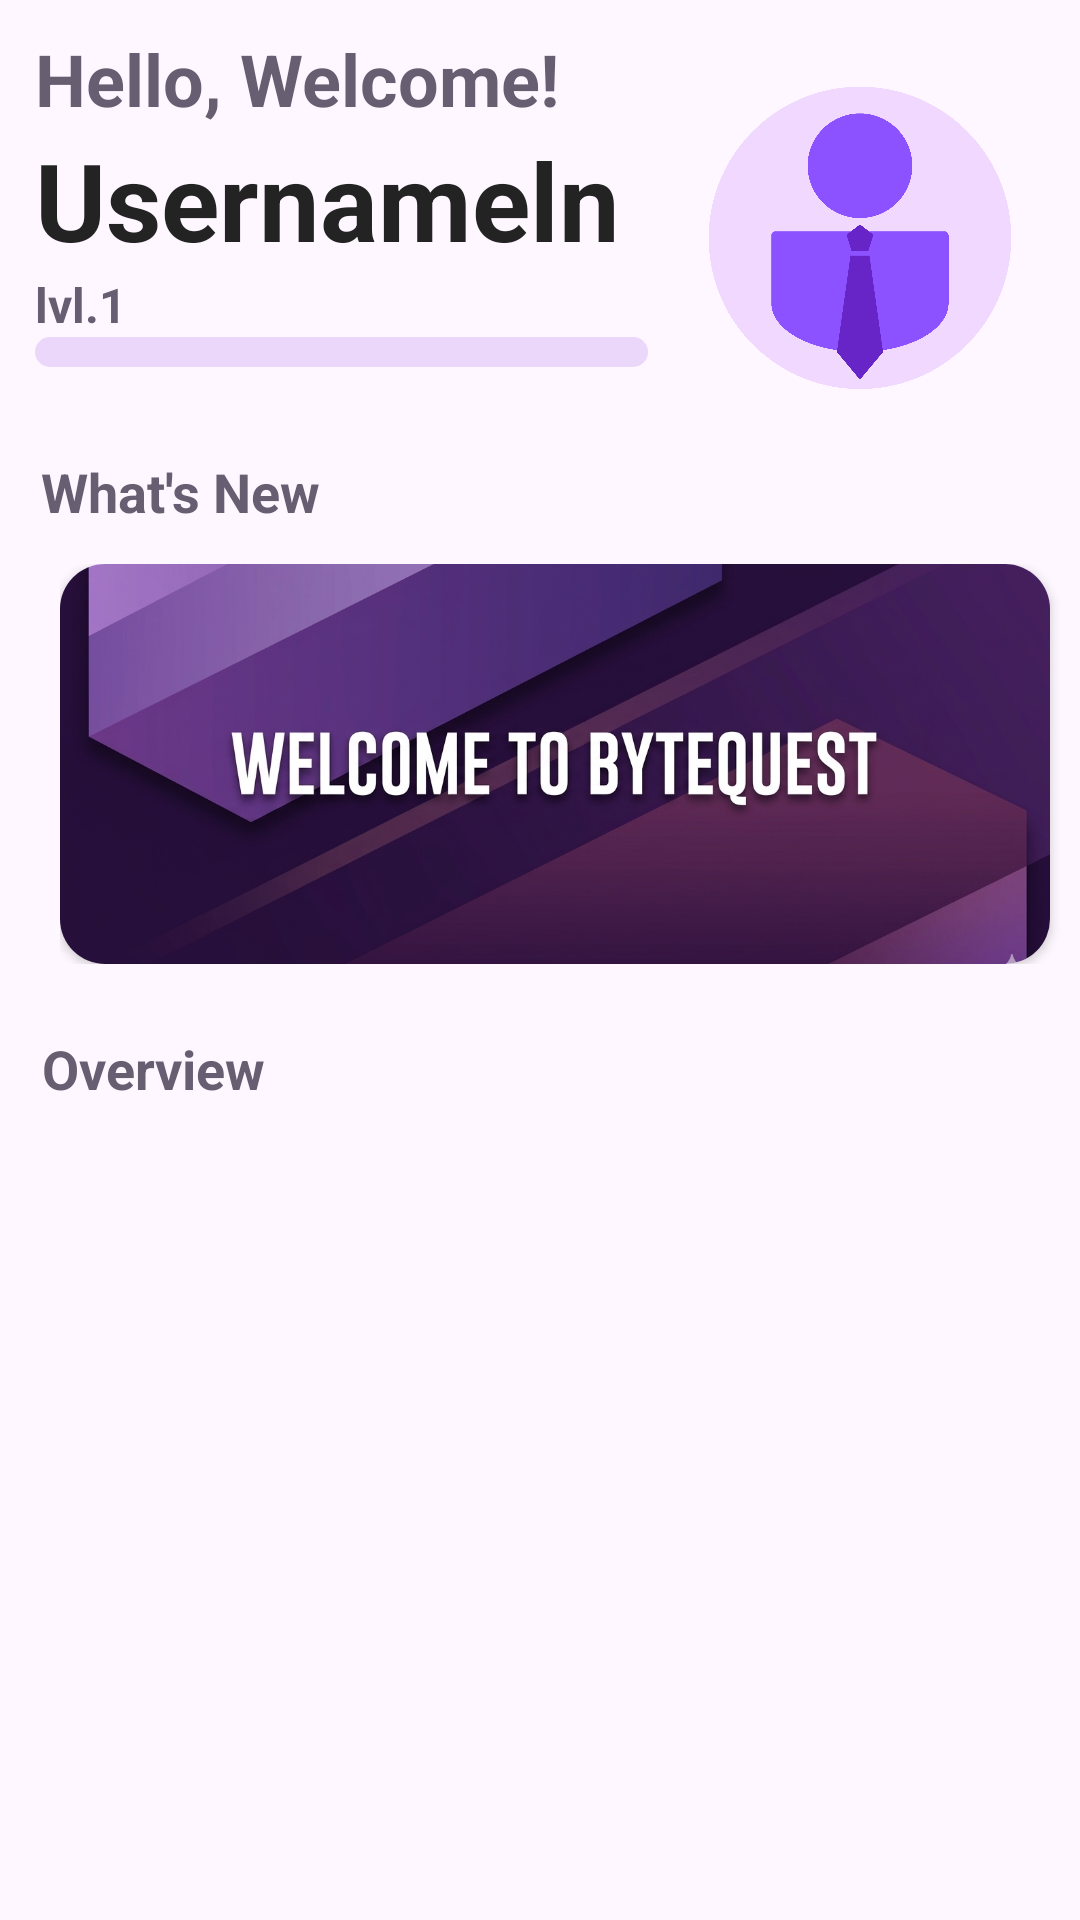

Where icons sit on this 1080*1920 app screen, as {"left": x1, "top": y1, "right": x2, "bottom": y2}:
profile app: {"left": 709, "top": 87, "right": 1011, "bottom": 389}
